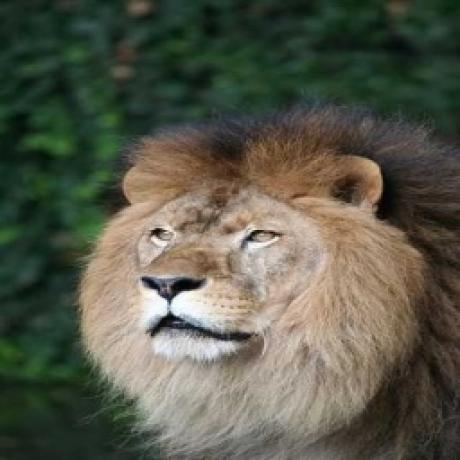Lion: (79, 108, 460, 460)
